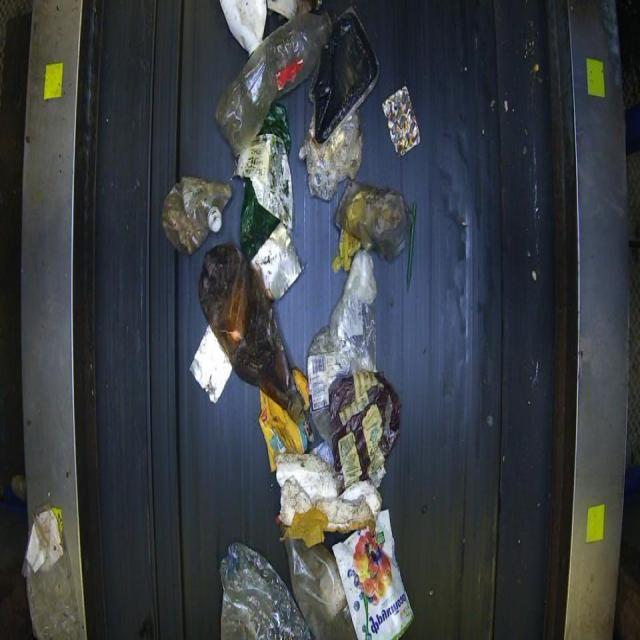cardboard: (16, 0, 630, 639)
organic-waste: (161, 0, 420, 639)
